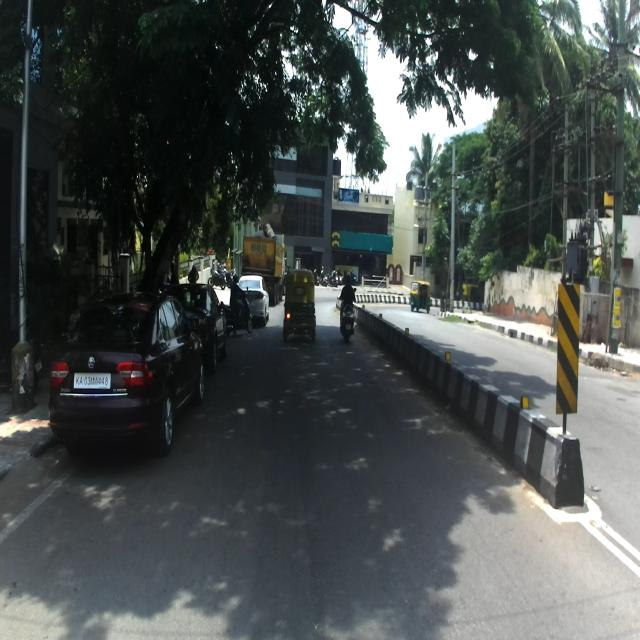auto ahead at: (280, 269, 320, 344)
car ahead at: (47, 289, 208, 464)
